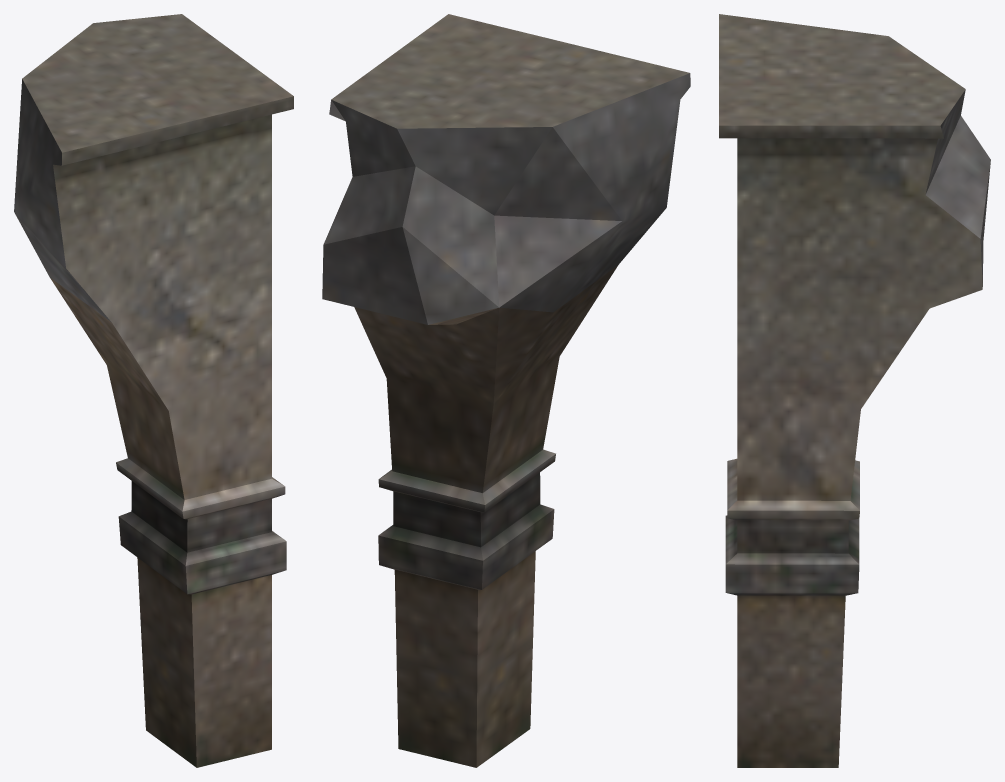
The model's file is SM_zhucheng_poqiang04.FBX.
3 views of the same model, side by side, from view 1: azimuth 30°, elevation 25°; view 2: azimuth 150°, elevation 25°; view 3: azimuth 270°, elevation 25° (orthographic). The views are drawn at different scales.
Parts seen in each view (by area): view 1: SM_zhucheng_poqiang04; view 2: SM_zhucheng_poqiang04; view 3: SM_zhucheng_poqiang04.
Boxes of the visible parts, x1=… form: SM_zhucheng_poqiang04: x1=14, y1=14, x2=293, y2=767; SM_zhucheng_poqiang04: x1=322, y1=14, x2=690, y2=767; SM_zhucheng_poqiang04: x1=719, y1=14, x2=990, y2=767.
Bounding box in the file's own units: 58.65 × 158 × 60.22.
